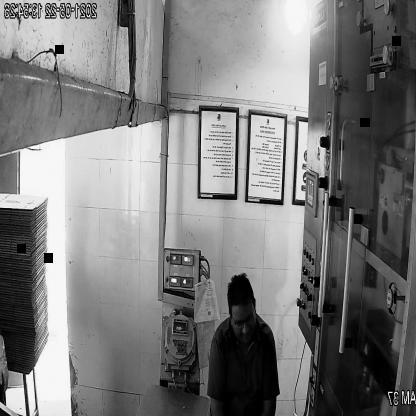goggles: (230, 306, 259, 334)
